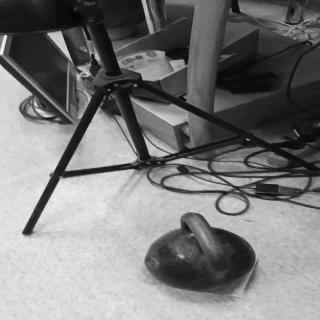kettlebell: (142, 213, 268, 295)
